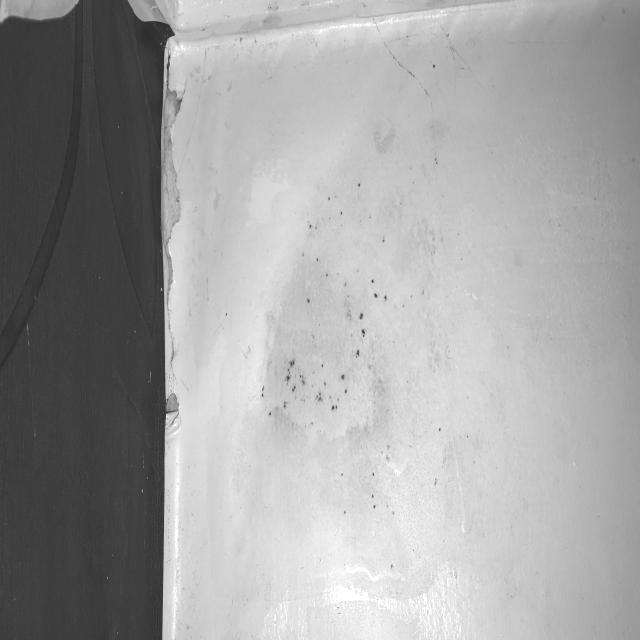pin holes: (438, 26, 459, 49), (428, 153, 442, 173), (427, 59, 441, 76), (295, 372, 309, 386), (430, 476, 442, 491), (352, 308, 364, 323), (352, 349, 365, 362), (378, 232, 390, 246), (280, 372, 292, 386), (286, 358, 299, 370), (471, 457, 482, 471), (358, 327, 369, 340), (435, 423, 445, 437), (367, 470, 381, 480), (257, 384, 267, 398), (405, 292, 417, 303), (315, 391, 324, 405), (323, 192, 333, 204), (336, 208, 346, 220), (464, 432, 474, 444), (387, 560, 397, 572), (339, 372, 349, 384), (287, 384, 297, 396), (419, 284, 427, 299), (368, 489, 377, 502), (336, 469, 345, 482), (382, 292, 390, 306), (322, 270, 331, 282), (303, 294, 311, 307), (367, 277, 377, 287), (318, 360, 328, 370), (333, 269, 343, 279), (355, 180, 364, 191), (372, 291, 381, 302), (328, 404, 340, 412), (363, 213, 375, 221), (397, 302, 409, 310), (376, 446, 384, 457), (265, 409, 273, 420), (334, 394, 342, 405), (282, 397, 288, 411), (310, 330, 317, 342), (320, 380, 329, 389), (340, 506, 348, 516), (385, 455, 393, 465), (385, 441, 393, 451), (405, 442, 415, 450), (341, 280, 349, 290), (384, 500, 390, 512), (390, 509, 399, 517), (222, 309, 230, 318), (308, 420, 316, 429), (343, 387, 350, 397), (312, 256, 322, 263), (348, 332, 356, 340), (299, 252, 306, 260), (355, 266, 362, 274), (370, 504, 381, 509), (327, 392, 332, 403), (307, 222, 313, 231), (313, 226, 320, 233)
stain marks: (232, 118, 489, 599), (180, 50, 239, 97), (490, 552, 521, 620), (507, 248, 532, 281)
